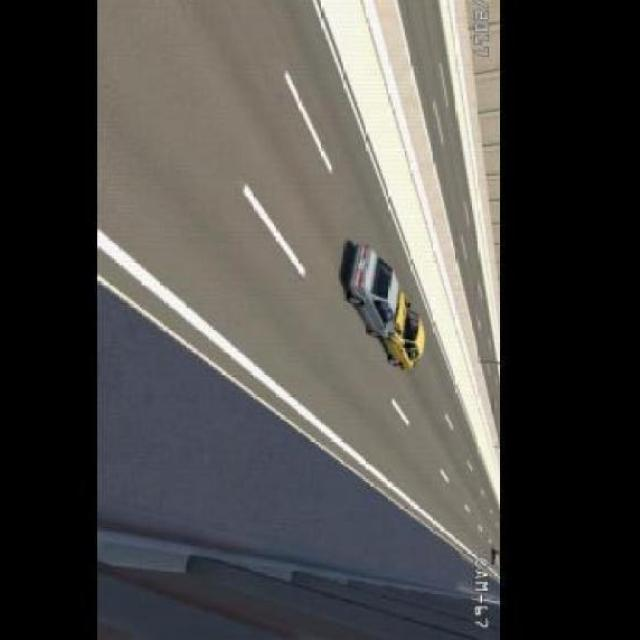accident: (340, 231, 430, 375)
